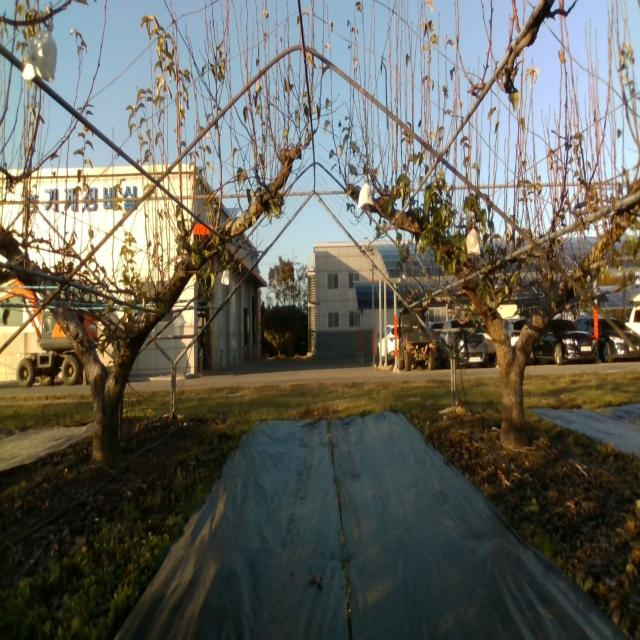pearbags: (21, 16, 58, 84), (466, 224, 481, 258), (358, 183, 374, 211)
